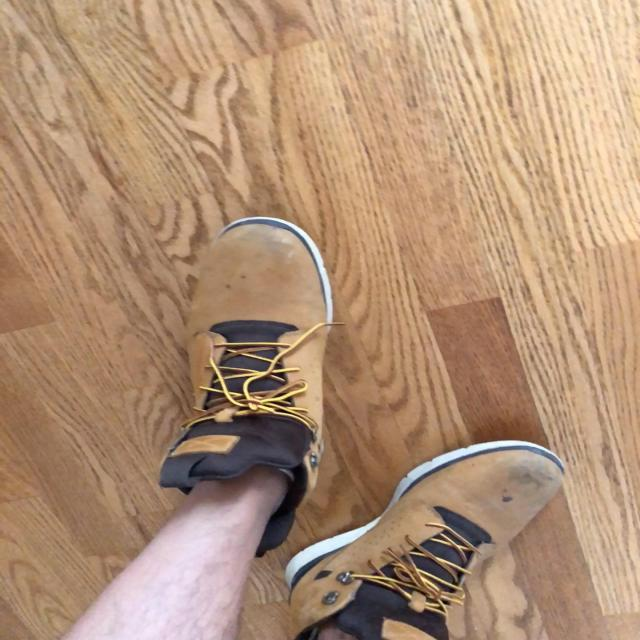shoe: (162, 218, 335, 545), (285, 442, 565, 640)
